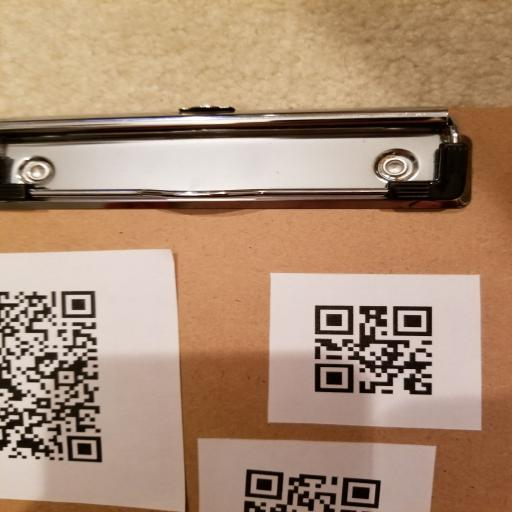QR_CODE: (1, 270, 113, 470), (304, 290, 440, 404), (232, 458, 397, 511)
